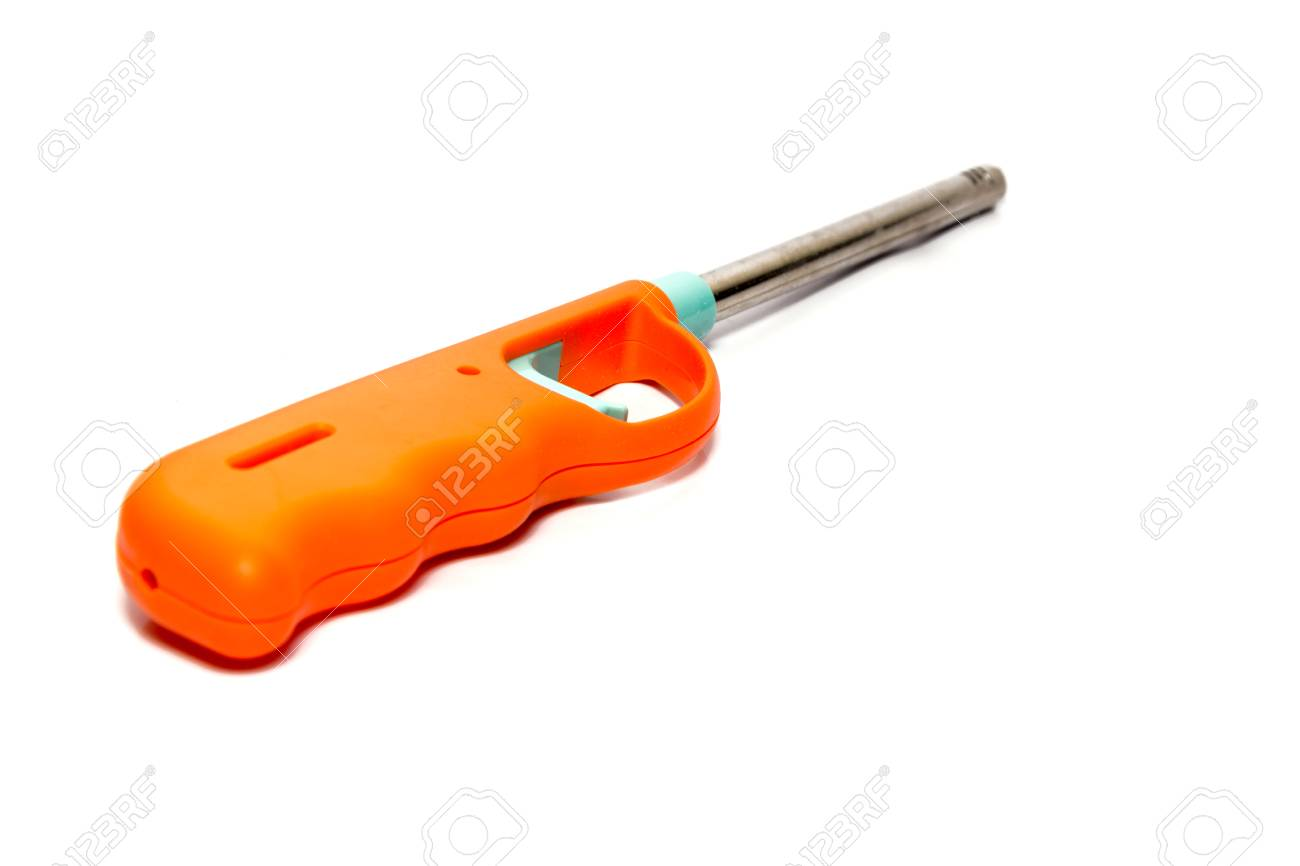Nonrec_Other: (74, 129, 1068, 665)
